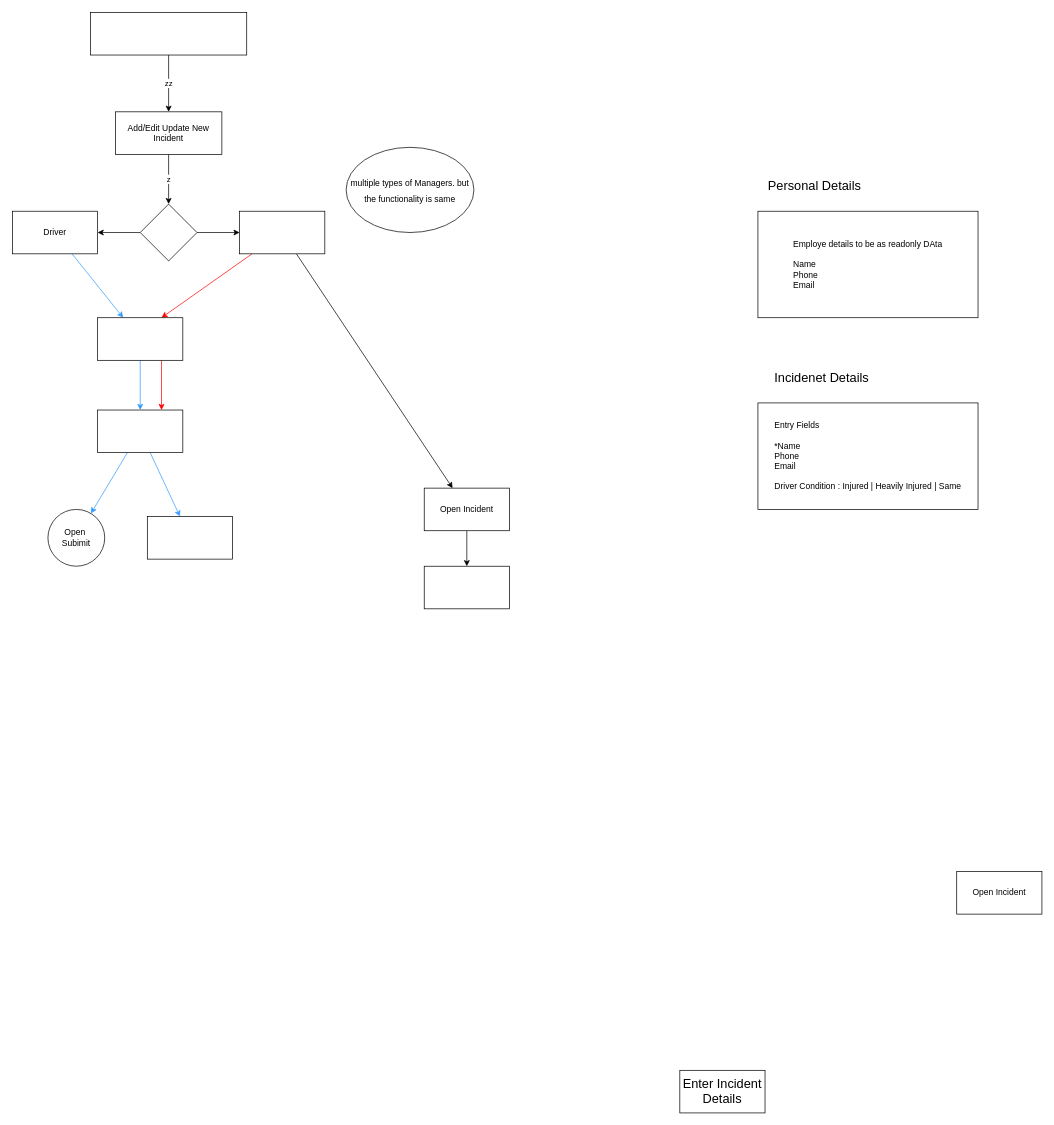
Image size: 1054x1125. Some labels were removed from this diagram. The shapes that lost their labels are listed below. From the top down, each one's box as (x1, y1, x2, y2) in pixels, then its label:
(90, 12, 247, 55): Incident Management
(140, 203, 197, 261): what user type is
(239, 211, 325, 254): Manager
(97, 317, 183, 360): Step 1 : Enter Personal Details
(97, 409, 183, 453): Step 2 Enter Incident Details
